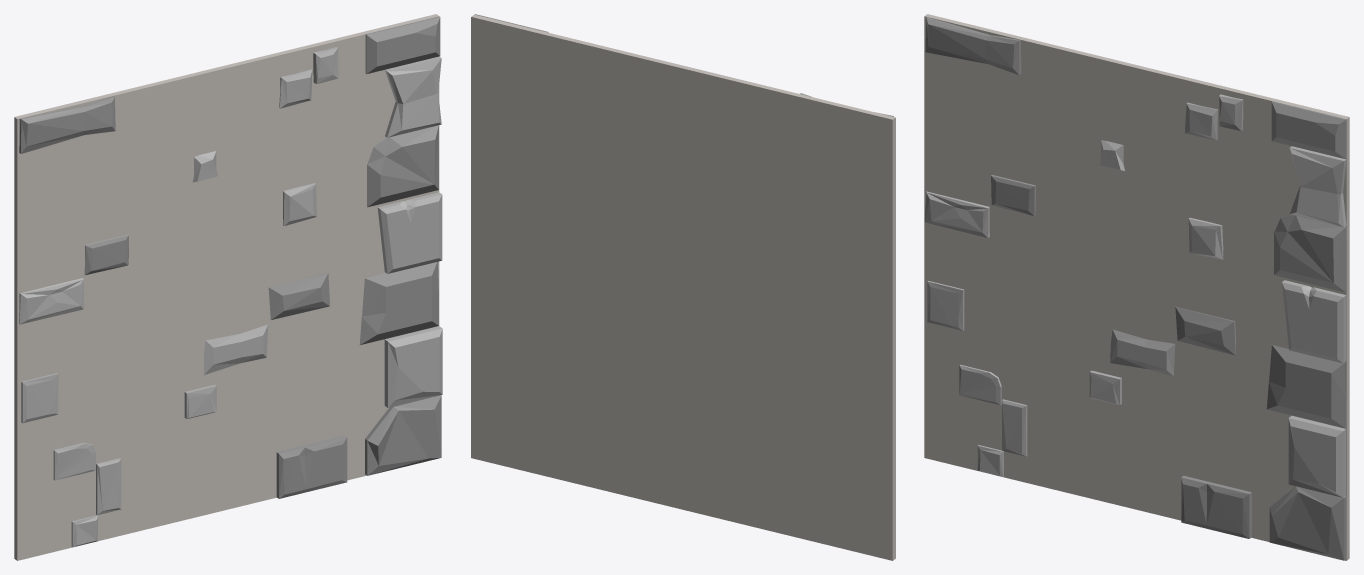
The model's file is WALL_08_1.fbx.
3 renders of one model, left to right at view 1: azimuth 30°, elevation 25°; view 2: azimuth 150°, elevation 25°; view 3: azimuth 330°, elevation 25°, orthographic.
Visible parts, largest first — view 1: WALL_08_1; view 2: WALL_08_1; view 3: WALL_08_1.
Part boxes in pixels (box(x1,y1,x2,y2)): WALL_08_1: box(14, 14, 442, 560); WALL_08_1: box(471, 14, 895, 560); WALL_08_1: box(924, 14, 1349, 560).
Bounding box in the file's own units: 300 × 300 × 12.
